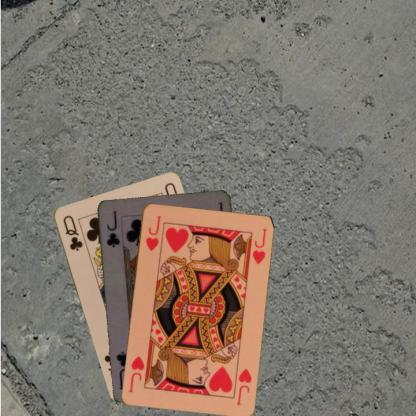Jc: (103, 208, 121, 249)
Jh: (143, 213, 162, 252), (234, 366, 252, 406)
Qc: (60, 212, 84, 252)
